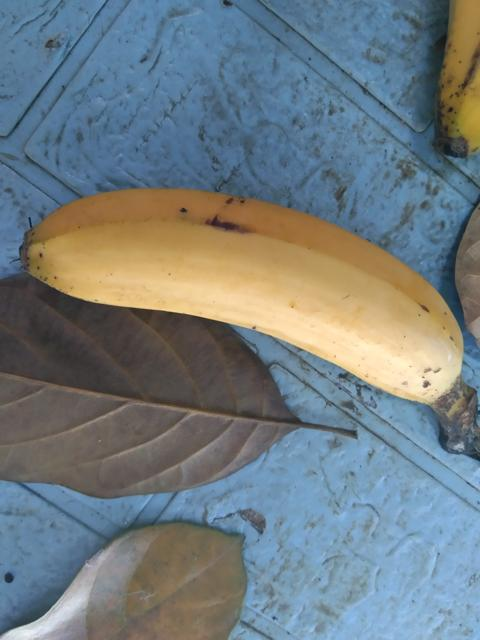freshripe: (16, 159, 471, 436)
